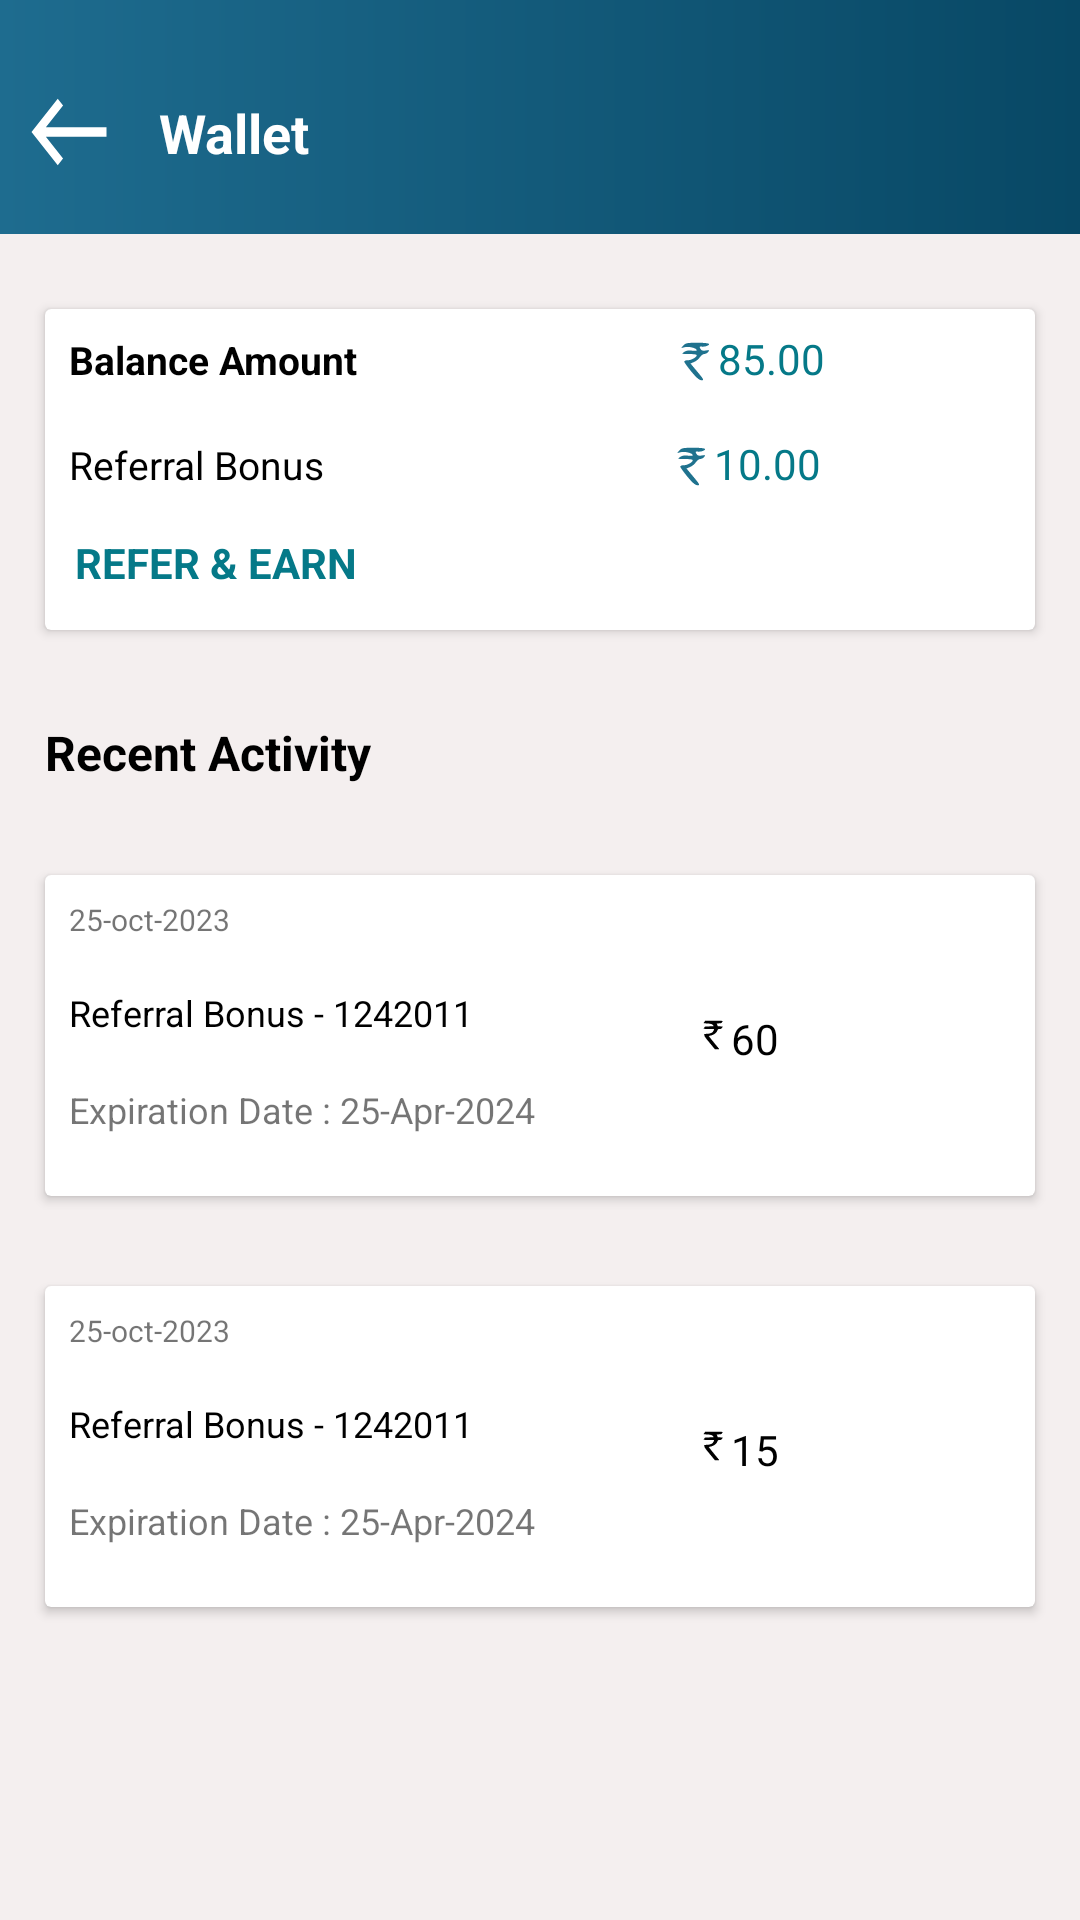

Where icons sit on this 1080px x 1920px app screen, as (x1, y1, x2, y2):
west: (31, 99, 107, 165)
